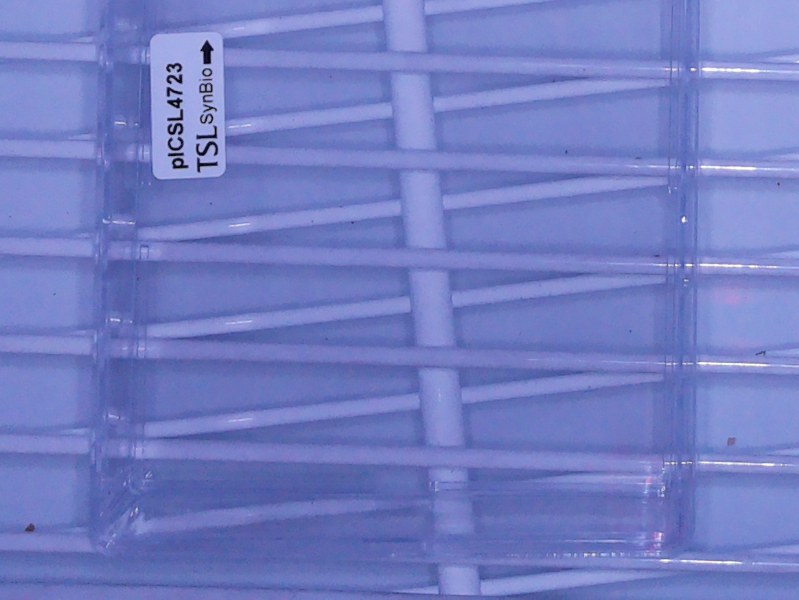plate: (85, 1, 701, 566)
